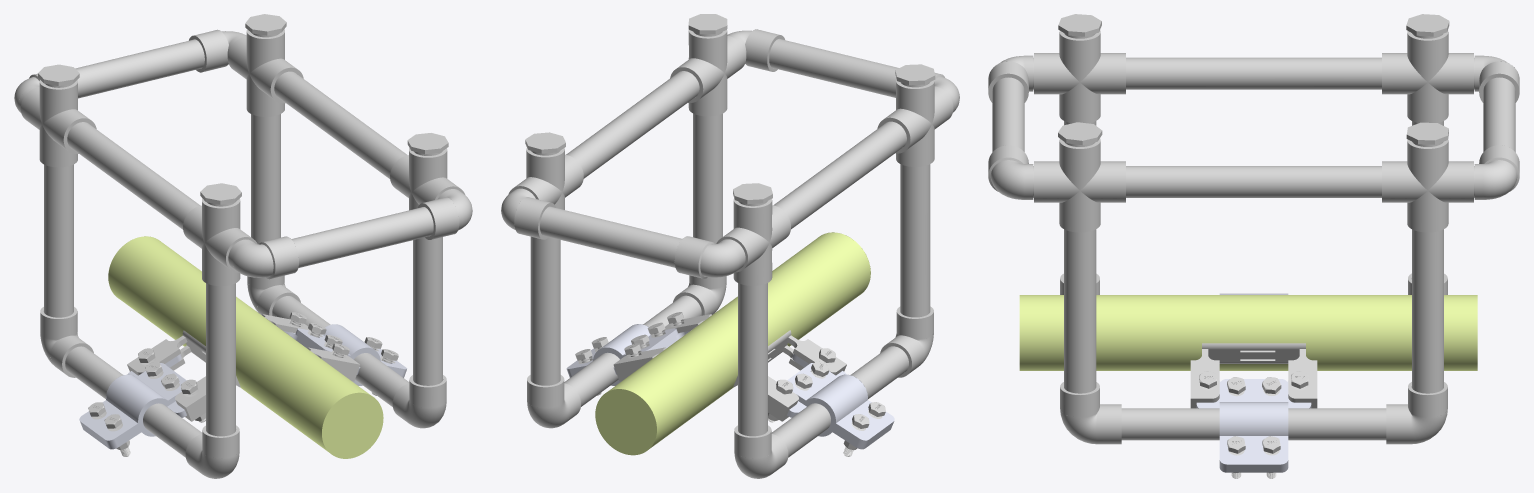
Rendered from payload-frame.glb.
3 views of the same model, side by side, from view 1: azimuth 30°, elevation 25°; view 2: azimuth 150°, elevation 25°; view 3: azimuth 270°, elevation 25° (orthographic). The views are drawn at different scales.
Visible parts, largest first — view 1: PVC_SHORT (×6), Part1^BOTTOM_ASSY, PVC_LONG (×4), 4881K325_THK-WALL DARK GRAY PVC UNTHRD PIPE FITTING (×4), 4881K240_THK-WALL DARK GRAY PVC UNTHRD PIPE FITTING (1) (×4), 4881K344_THK-WALL DARK GRAY PVC UNTHRD PIPE FITTING (×3), CLAMP_WINCH (×2), BRACKET_WINCH (×2), MALE END CAP (×4); view 2: PVC_SHORT (×6), Part1^BOTTOM_ASSY, PVC_LONG (×4), 4881K325_THK-WALL DARK GRAY PVC UNTHRD PIPE FITTING (×4), 4881K240_THK-WALL DARK GRAY PVC UNTHRD PIPE FITTING (1) (×4), 4881K344_THK-WALL DARK GRAY PVC UNTHRD PIPE FITTING (×3), CLAMP_WINCH (×2), BRACKET_WINCH (×2), MALE END CAP (×4); view 3: Part1^BOTTOM_ASSY, PVC_LONG (×3), 4881K325_THK-WALL DARK GRAY PVC UNTHRD PIPE FITTING (×4), PVC_SHORT (×4), 4881K344_THK-WALL DARK GRAY PVC UNTHRD PIPE FITTING (×4), 4881K240_THK-WALL DARK GRAY PVC UNTHRD PIPE FITTING (1) (×2), CLAMP_WINCH, BRACKET_WINCH, MALE END CAP (×4).
Part boxes in pixels (box(x1,y1,x2,y2)): PVC_SHORT (×6): box(44, 39, 442, 436); Part1^BOTTOM_ASSY: box(108, 236, 383, 458); PVC_LONG (×4): box(65, 71, 409, 457); 4881K325_THK-WALL DARK GRAY PVC UNTHRD PIPE FITTING (×4): box(20, 29, 465, 286); 4881K240_THK-WALL DARK GRAY PVC UNTHRD PIPE FITTING (1) (×4): box(40, 275, 446, 478); 4881K344_THK-WALL DARK GRAY PVC UNTHRD PIPE FITTING (×3): box(189, 29, 472, 279); CLAMP_WINCH (×2): box(79, 324, 407, 444); BRACKET_WINCH (×2): box(127, 314, 359, 421); MALE END CAP (×4): box(38, 14, 448, 206); PVC_SHORT (×6): box(530, 38, 930, 436); Part1^BOTTOM_ASSY: box(595, 232, 870, 455); PVC_LONG (×4): box(564, 71, 908, 457); 4881K325_THK-WALL DARK GRAY PVC UNTHRD PIPE FITTING (×4): box(508, 30, 953, 285); 4881K240_THK-WALL DARK GRAY PVC UNTHRD PIPE FITTING (1) (×4): box(527, 275, 933, 478); 4881K344_THK-WALL DARK GRAY PVC UNTHRD PIPE FITTING (×3): box(501, 29, 784, 278); CLAMP_WINCH (×2): box(566, 324, 894, 444); BRACKET_WINCH (×2): box(613, 314, 846, 421); MALE END CAP (×4): box(525, 14, 935, 206); Part1^BOTTOM_ASSY: box(1019, 295, 1477, 370); PVC_LONG (×3): box(1121, 57, 1386, 440); 4881K325_THK-WALL DARK GRAY PVC UNTHRD PIPE FITTING (×4): box(1034, 30, 1473, 232); PVC_SHORT (×4): box(992, 77, 1515, 393); 4881K344_THK-WALL DARK GRAY PVC UNTHRD PIPE FITTING (×4): box(988, 55, 1519, 199); 4881K240_THK-WALL DARK GRAY PVC UNTHRD PIPE FITTING (1) (×2): box(1060, 382, 1447, 444); CLAMP_WINCH: box(1219, 379, 1288, 468); BRACKET_WINCH: box(1190, 343, 1317, 408); MALE END CAP (×4): box(1058, 14, 1449, 146).
Size of the model in its own units: 0.4879 by 0.4847 by 0.6961.
